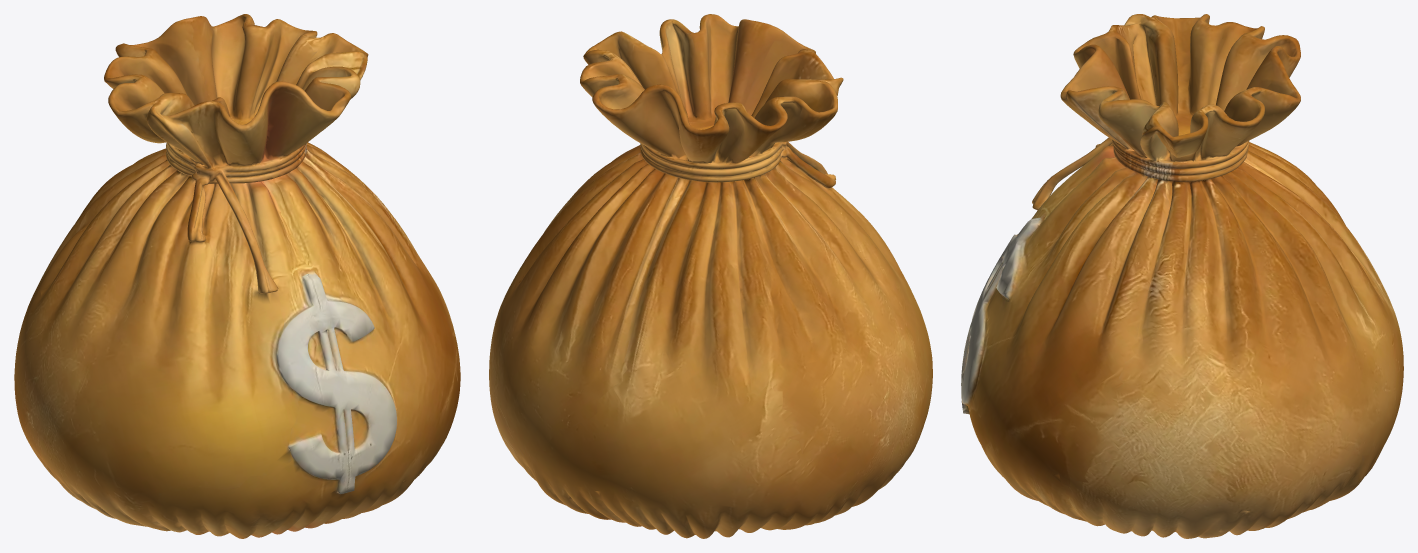
Rendered from web.glb.
The picture shows the model from 3 angles, left to right: view 1: azimuth 30°, elevation 25°; view 2: azimuth 150°, elevation 25°; view 3: azimuth 270°, elevation 25°; orthographic projection.
Parts seen in each view (by area): view 1: model; view 2: model; view 3: model.
Part boxes in pixels (x1,y1,x2,y2): model: (14, 14, 460, 538); model: (489, 14, 932, 538); model: (961, 14, 1403, 538).
Size of the model in its own units: 1.91 by 2 by 1.89.
1 material, 1 textured.
